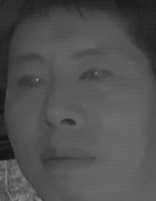eye: (76, 65, 115, 87), (14, 70, 48, 93)
mouth: (37, 142, 98, 176)
